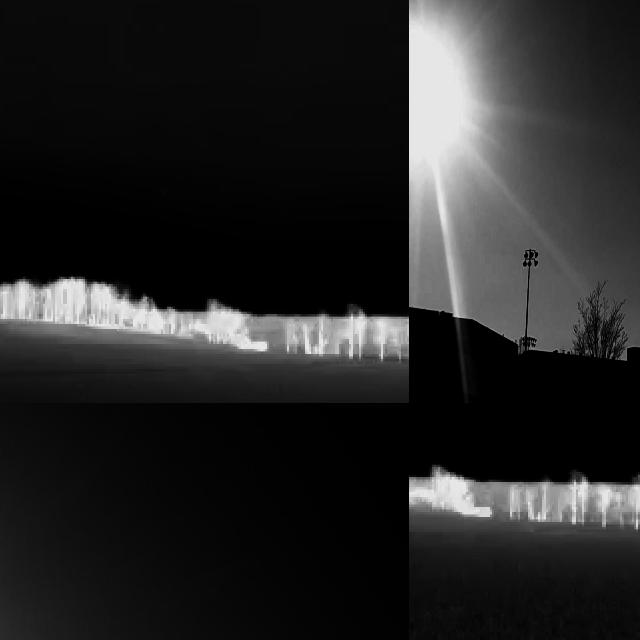0: (155, 178, 181, 212)
drone: (635, 95, 640, 119)
